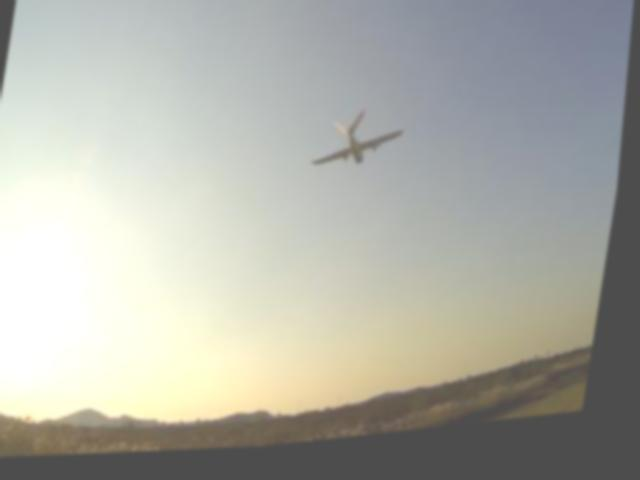uav: (302, 102, 417, 192)
